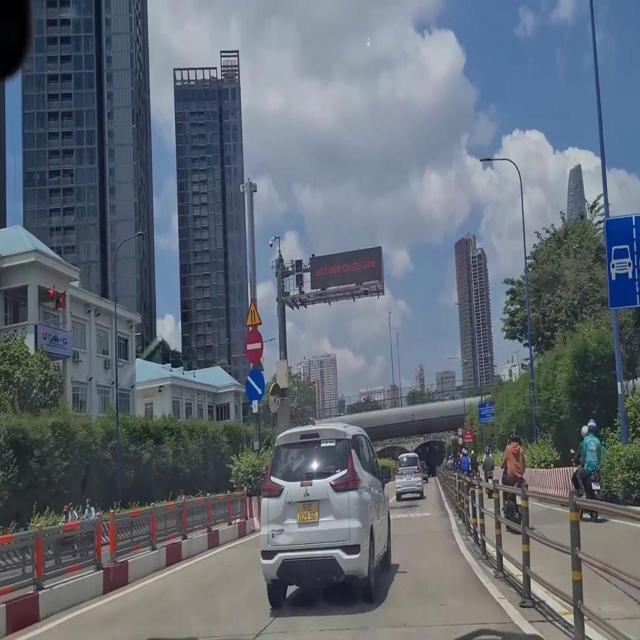Cấm đi ngược chiều: (245, 324, 266, 363)
Hướng phải đi vòng sang phải: (238, 360, 265, 404)
Khác: (474, 396, 502, 424)
Đường hẹp: (242, 297, 262, 326)
